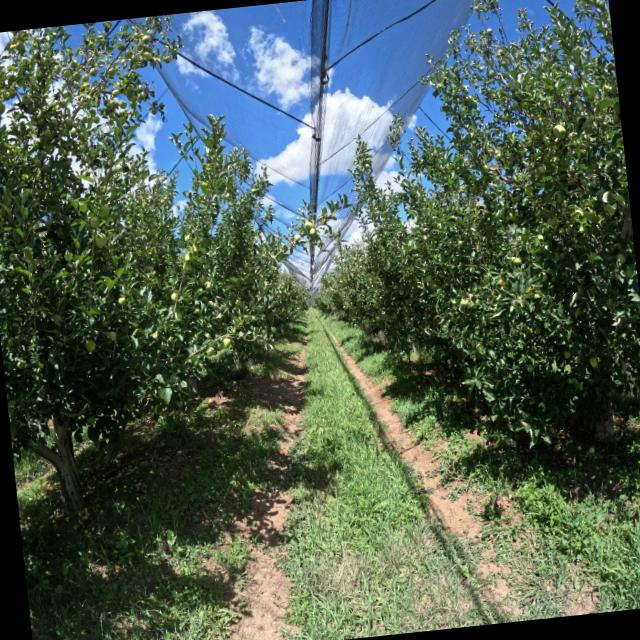-FireBlight-: (418, 303, 445, 330), (564, 172, 586, 191)
